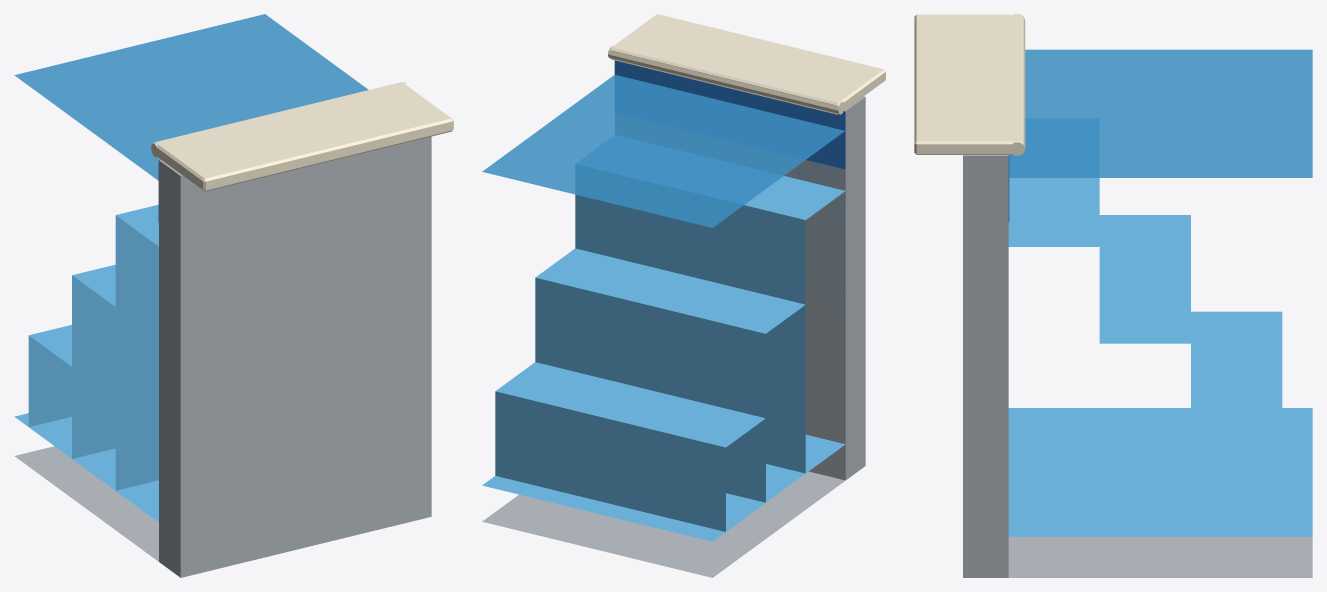
Rendered from piscina_degraus.glb.
3 renders of one model, left to right at view 1: azimuth 30°, elevation 25°; view 2: azimuth 150°, elevation 25°; view 3: azimuth 270°, elevation 25°, orthographic. The views are drawn at different scales.
Parts seen in each view (by area): view 1: piscina_degraus; view 2: piscina_degraus; view 3: piscina_degraus.
Boxes of the visible parts, x1,y1,x2,y2 form: piscina_degraus: [14, 14, 453, 577]; piscina_degraus: [482, 14, 885, 577]; piscina_degraus: [914, 14, 1312, 577].
Bounding box in the file's own units: 1 × 1.58 × 1.31.
3 materials, 1 textured.
